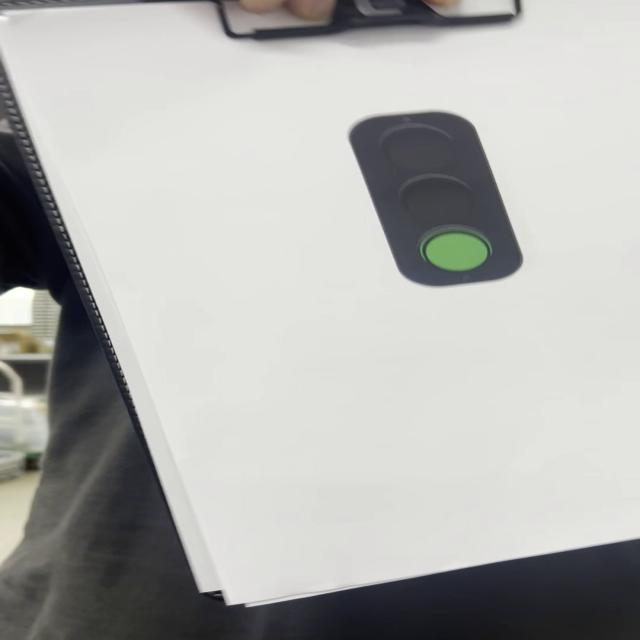green: (351, 110, 527, 289)
